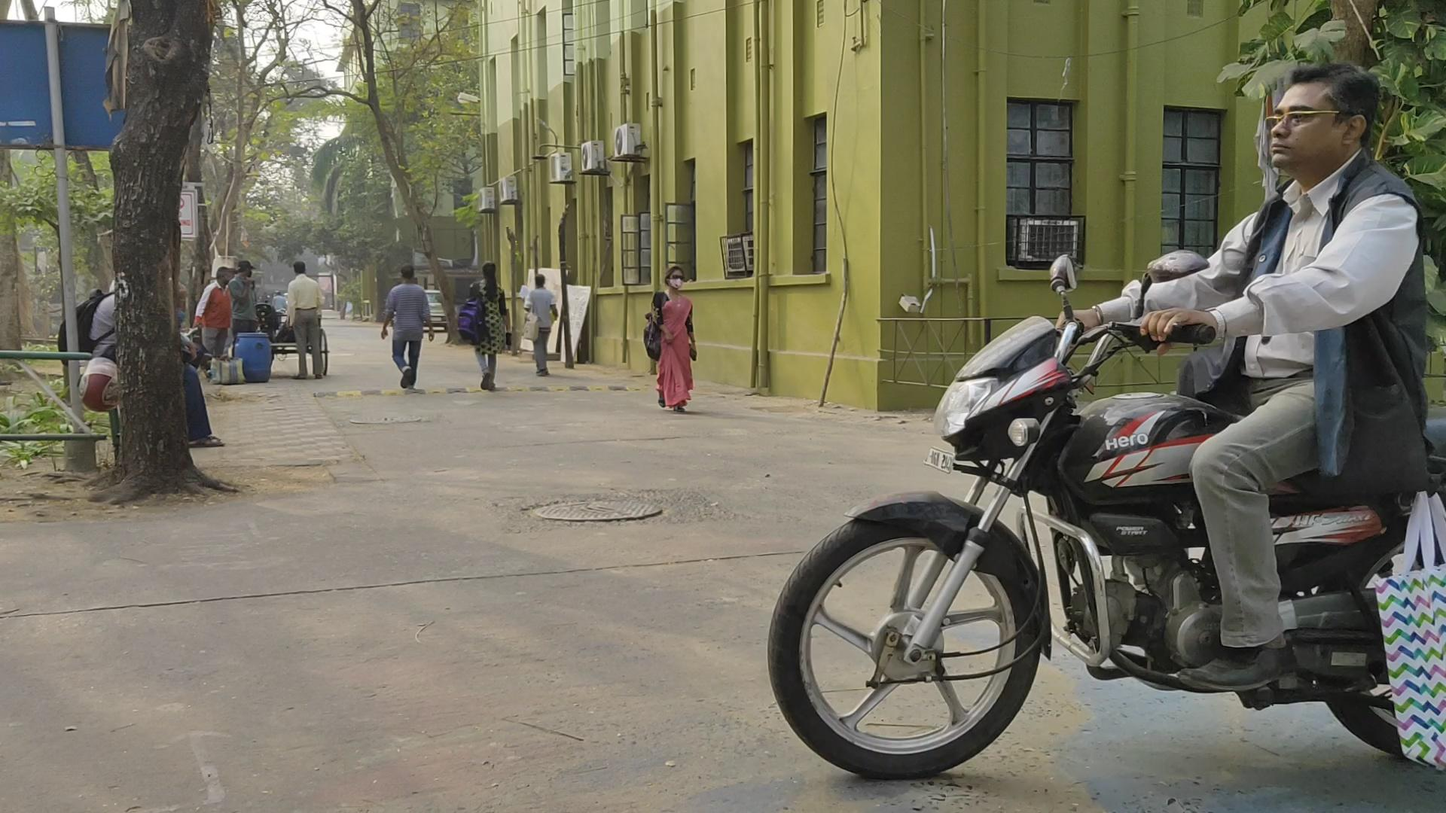bike: (766, 60, 1446, 781)
